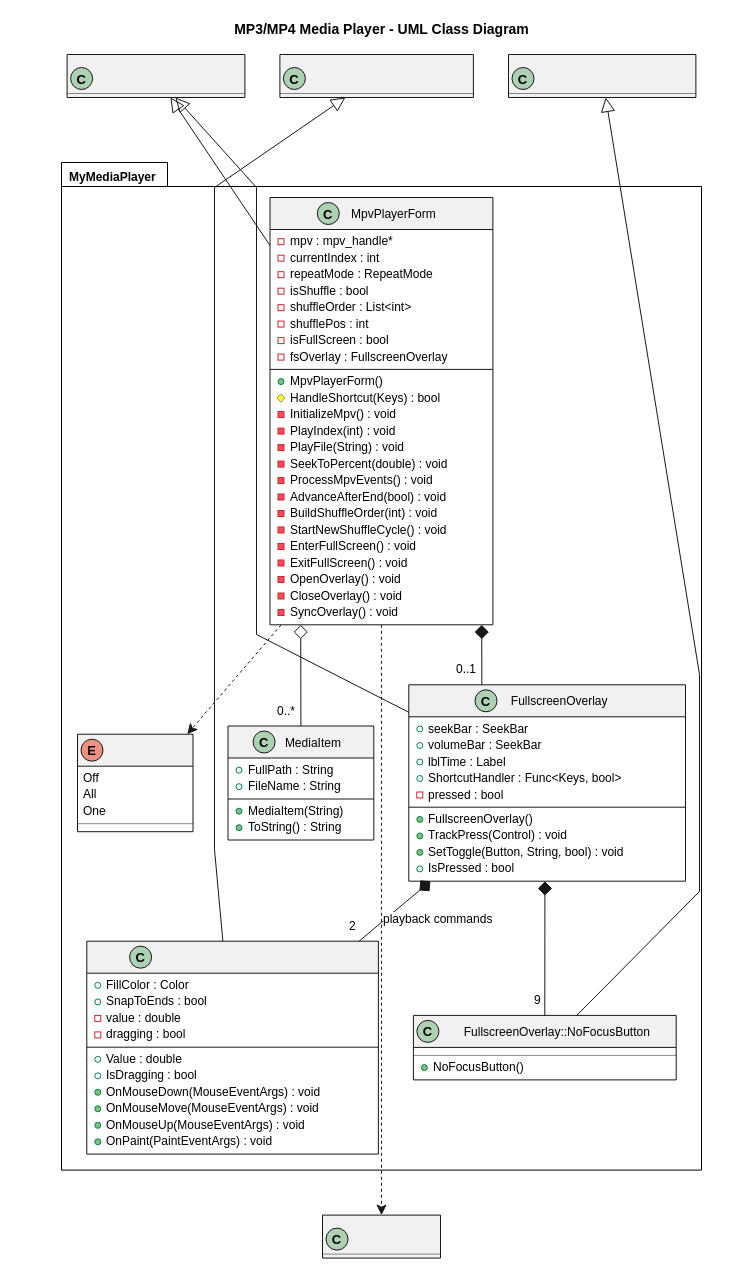
Some shapes in this 731 by 1276 pixel diagram are drawn without their labels. Each missing label, with the box of its shape:
FullscreenOverlay::SeekBar: (86, 940, 378, 1154)
RepeatMode: (76, 733, 193, 832)
«external» libmpv C API: (322, 1214, 440, 1258)
«external» Windows Forms Button: (508, 54, 696, 98)
«external» Windows Forms Control: (279, 54, 473, 98)
«external» Windows Forms Form: (66, 54, 245, 98)
